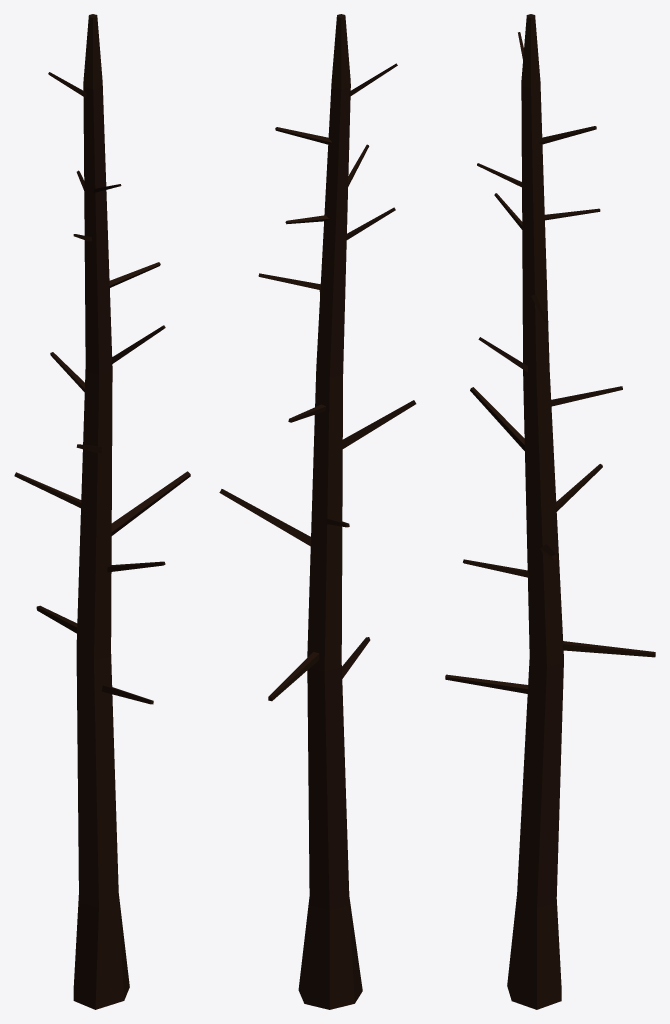
File: dead_tall_pine_tree1.obj
The picture shows the model from 3 angles, left to right: view 1: azimuth 30°, elevation 25°; view 2: azimuth 150°, elevation 25°; view 3: azimuth 270°, elevation 25°; orthographic projection.
Parts seen in each view (by area): view 1: Tree5_2.001_Cube.038; view 2: Tree5_2.001_Cube.038; view 3: Tree5_2.001_Cube.038.
Part boxes in pixels (x1,y1,x2,y2): Tree5_2.001_Cube.038: (14, 14, 190, 1009); Tree5_2.001_Cube.038: (219, 14, 416, 1009); Tree5_2.001_Cube.038: (445, 14, 655, 1009).
Size of the model in its own units: 2.56 by 15.06 by 2.95.
